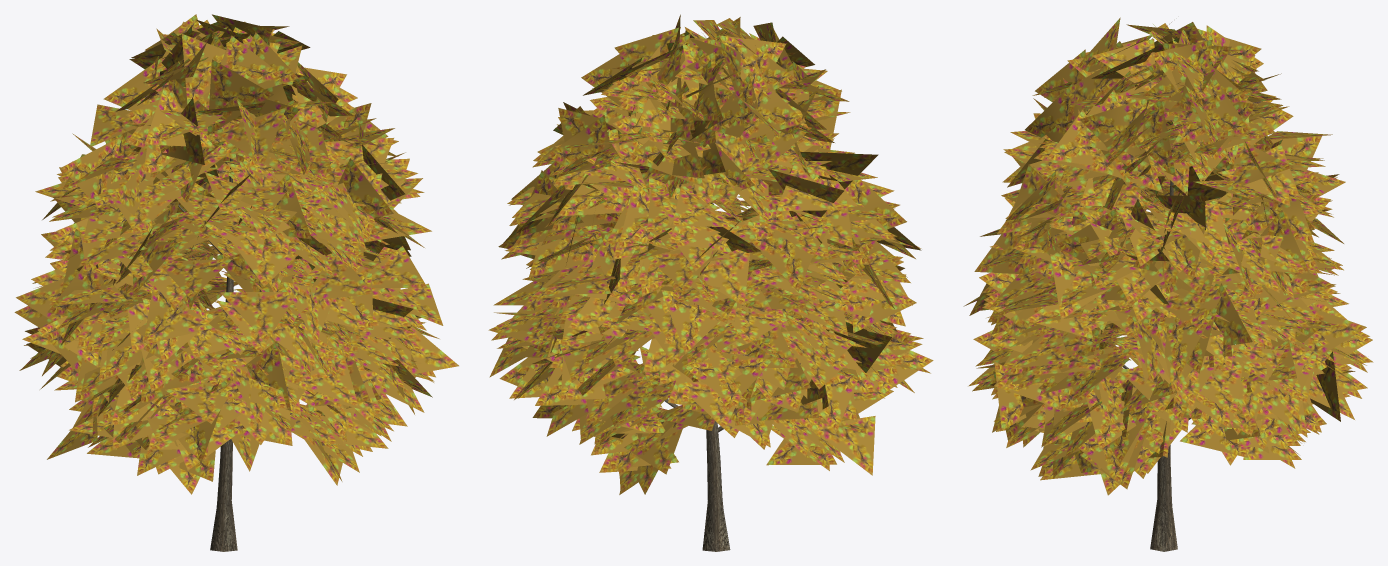
Rendered from Sassafras_Albidum_Autumn_Young.glb.
3 views of the same model, side by side, from view 1: azimuth 30°, elevation 25°; view 2: azimuth 150°, elevation 25°; view 3: azimuth 270°, elevation 25° (orthographic).
Parts seen in each view (by area): view 1: Sassafras_Albidum_Autumn_Young__LOD3; view 2: Sassafras_Albidum_Autumn_Young__LOD3; view 3: Sassafras_Albidum_Autumn_Young__LOD3.
Boxes of the visible parts, <box> form: Sassafras_Albidum_Autumn_Young__LOD3: <box>14,14,458,551</box>; Sassafras_Albidum_Autumn_Young__LOD3: <box>488,14,933,551</box>; Sassafras_Albidum_Autumn_Young__LOD3: <box>963,17,1373,551</box>.
Size of the model in its own units: 5.35 by 6.96 by 5.03.
Materials: 2 (2 with a texture image).
